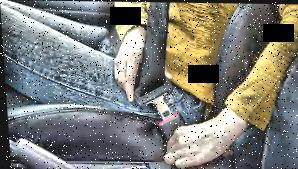seatbelt: (92, 6, 188, 138)
